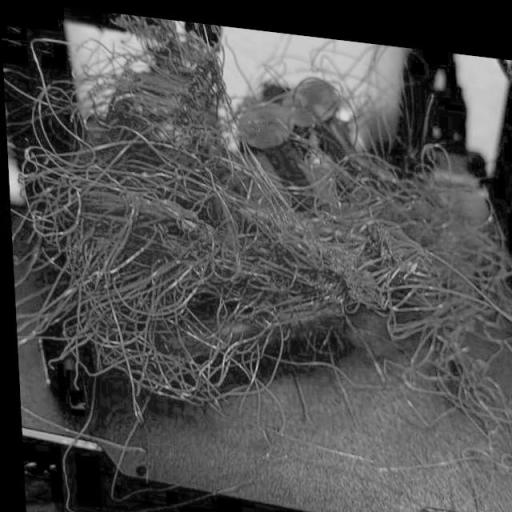spaghetti_and_stringing: (3, 79, 230, 377), (425, 272, 512, 492), (322, 164, 454, 294), (106, 322, 256, 416), (233, 174, 329, 298), (116, 10, 214, 96), (304, 31, 390, 98)
